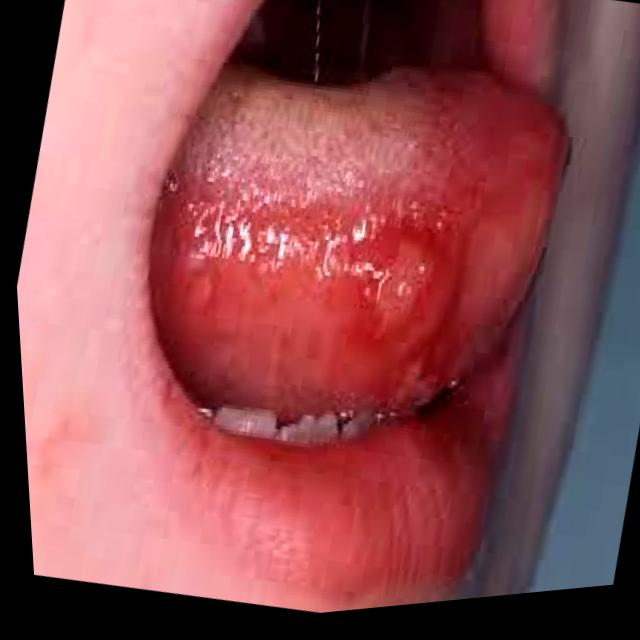ulcer: (320, 226, 452, 353)
